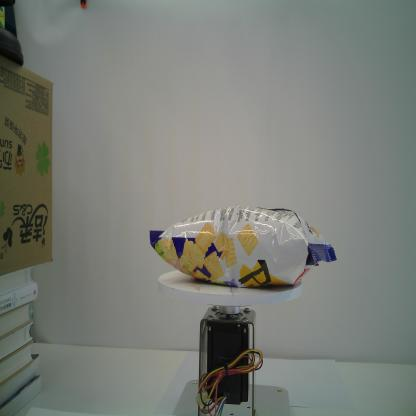Puffed Food: (147, 201, 339, 290)
